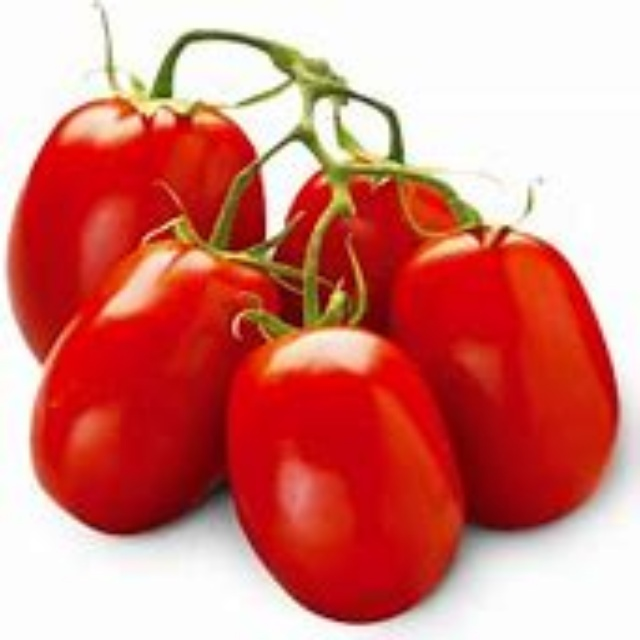tomato: (11, 78, 263, 376), (31, 237, 276, 535), (396, 228, 617, 521), (230, 333, 454, 622), (271, 154, 477, 352)
